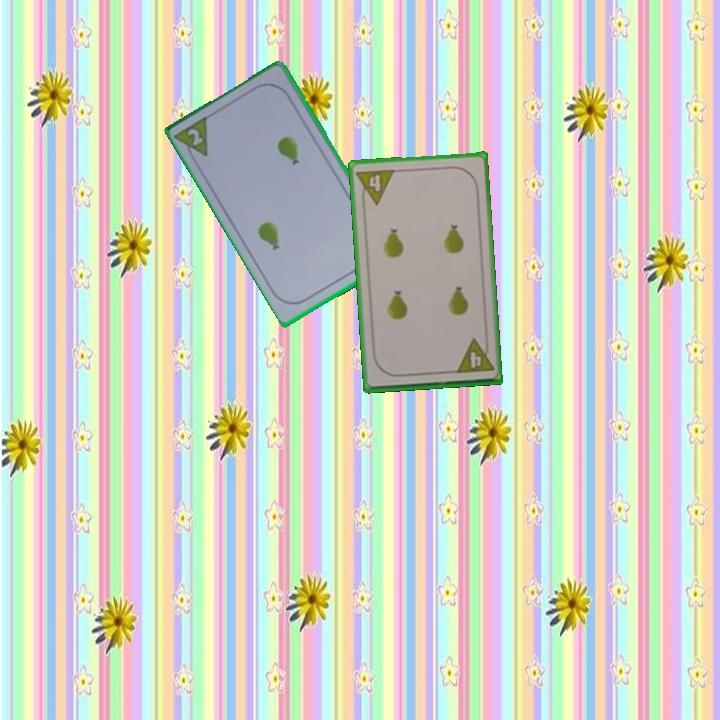2p: (184, 125, 207, 149)
4p: (353, 165, 397, 208), (452, 335, 496, 376)
